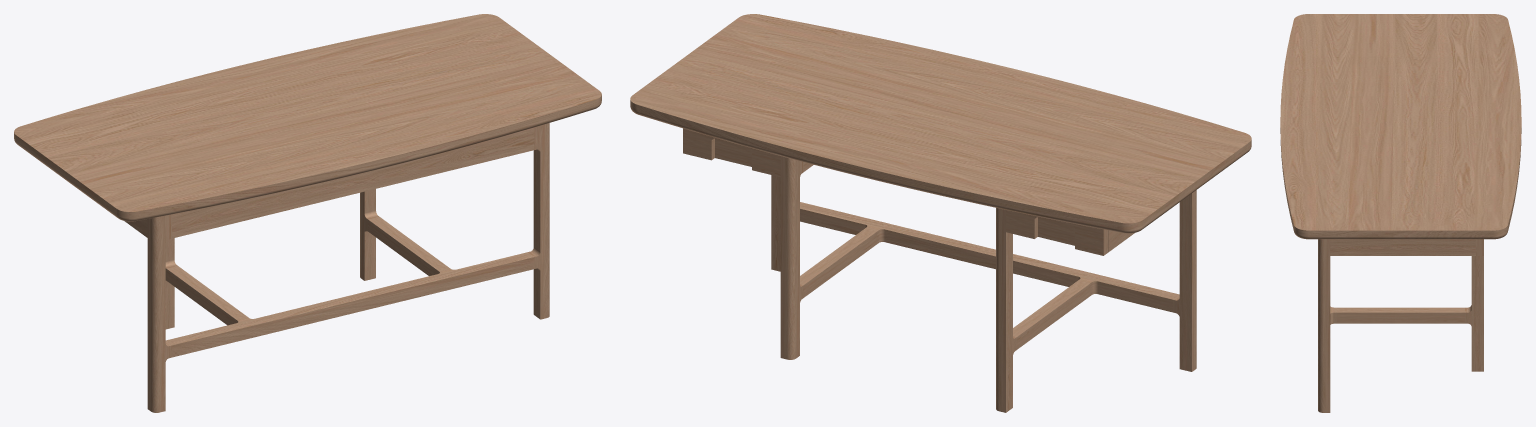
The model's file is 3d-asa-rotation-540-reversed-textured.glb.
The picture shows the model from 3 angles, left to right: view 1: azimuth 30°, elevation 25°; view 2: azimuth 150°, elevation 25°; view 3: azimuth 270°, elevation 25°; orthographic projection. The views are drawn at different scales.
Parts seen in each view (by area): view 1: Desk Back Left Leg; view 2: Desk Back Left Leg; view 3: Desk Back Left Leg.
Part boxes in pixels (bbox=[...]): Desk Back Left Leg: bbox=[14, 14, 601, 412]; Desk Back Left Leg: bbox=[630, 14, 1251, 412]; Desk Back Left Leg: bbox=[1280, 14, 1521, 412].
Bounding box in the file's own units: 1.73 × 0.7493 × 0.8128.
2 materials, 1 textured.
